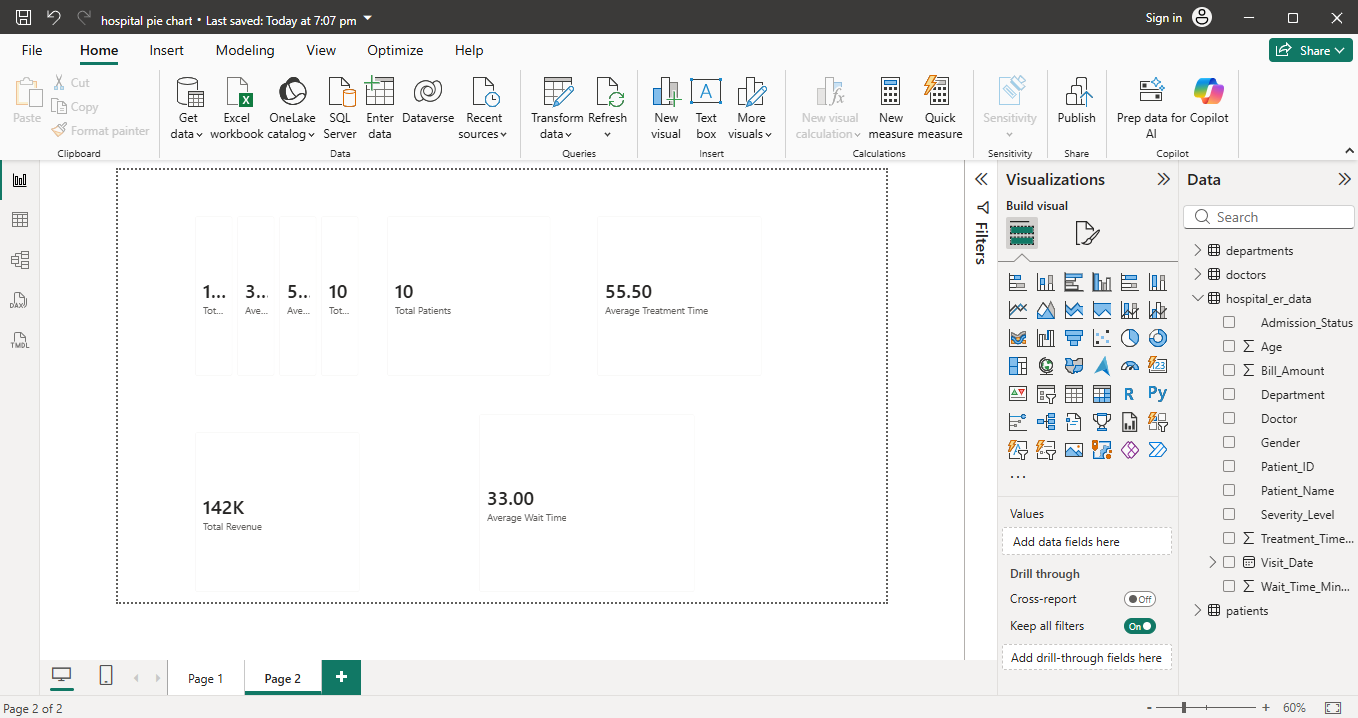

The page's visual inventory and layout, read from the dashboard file:
{"tool":"powerbi","page":{"name":"Page 2","canvas":[1280,720],"ordinal":1},"visuals":[{"type":"cardVisual","fields":{"Data":["departments.Total Revenue","departments.Average Wait Time","departments.Average Treatment Time","departments.Total Patients"]},"box":[113,0,308,300],"z":0},{"type":"cardVisual","fields":{"Data":["departments.Total Revenue"]},"box":[113,310,308,300],"z":1000},{"type":"cardVisual","fields":{"Data":["departments.Total Patients"]},"box":[431,0,308,300],"z":2000},{"type":"cardVisual","fields":{"Data":["departments.Average Wait Time"]},"box":[431,310,308,300],"z":3000},{"type":"cardVisual","fields":{"Data":["departments.Average Treatment Time"]},"box":[749,0,308,300],"z":4000}]}

Visuals, with their boxes on the page's 1280x720 design canvas (x1, y1, x2, y2). These are canvas units, not pixel positions in the 1358x718 screenshot, which may show the page scaled, cropped or inside an application window:
cardVisual - departments.Total Revenue x departments.Average Wait Time: rect(113, 0, 421, 300)
cardVisual - departments.Total Revenue: rect(113, 310, 421, 610)
cardVisual - departments.Total Patients: rect(431, 0, 739, 300)
cardVisual - departments.Average Wait Time: rect(431, 310, 739, 610)
cardVisual - departments.Average Treatment Time: rect(749, 0, 1057, 300)
